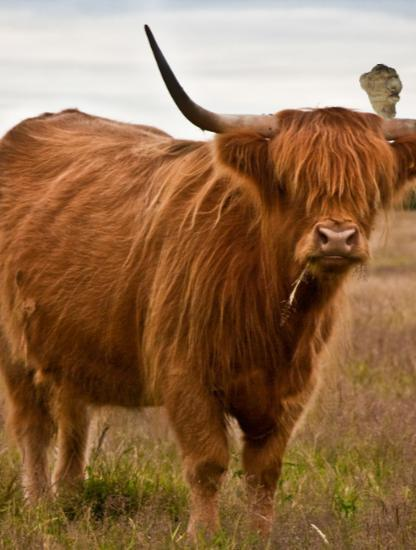Ginger: (353, 64, 410, 121)
